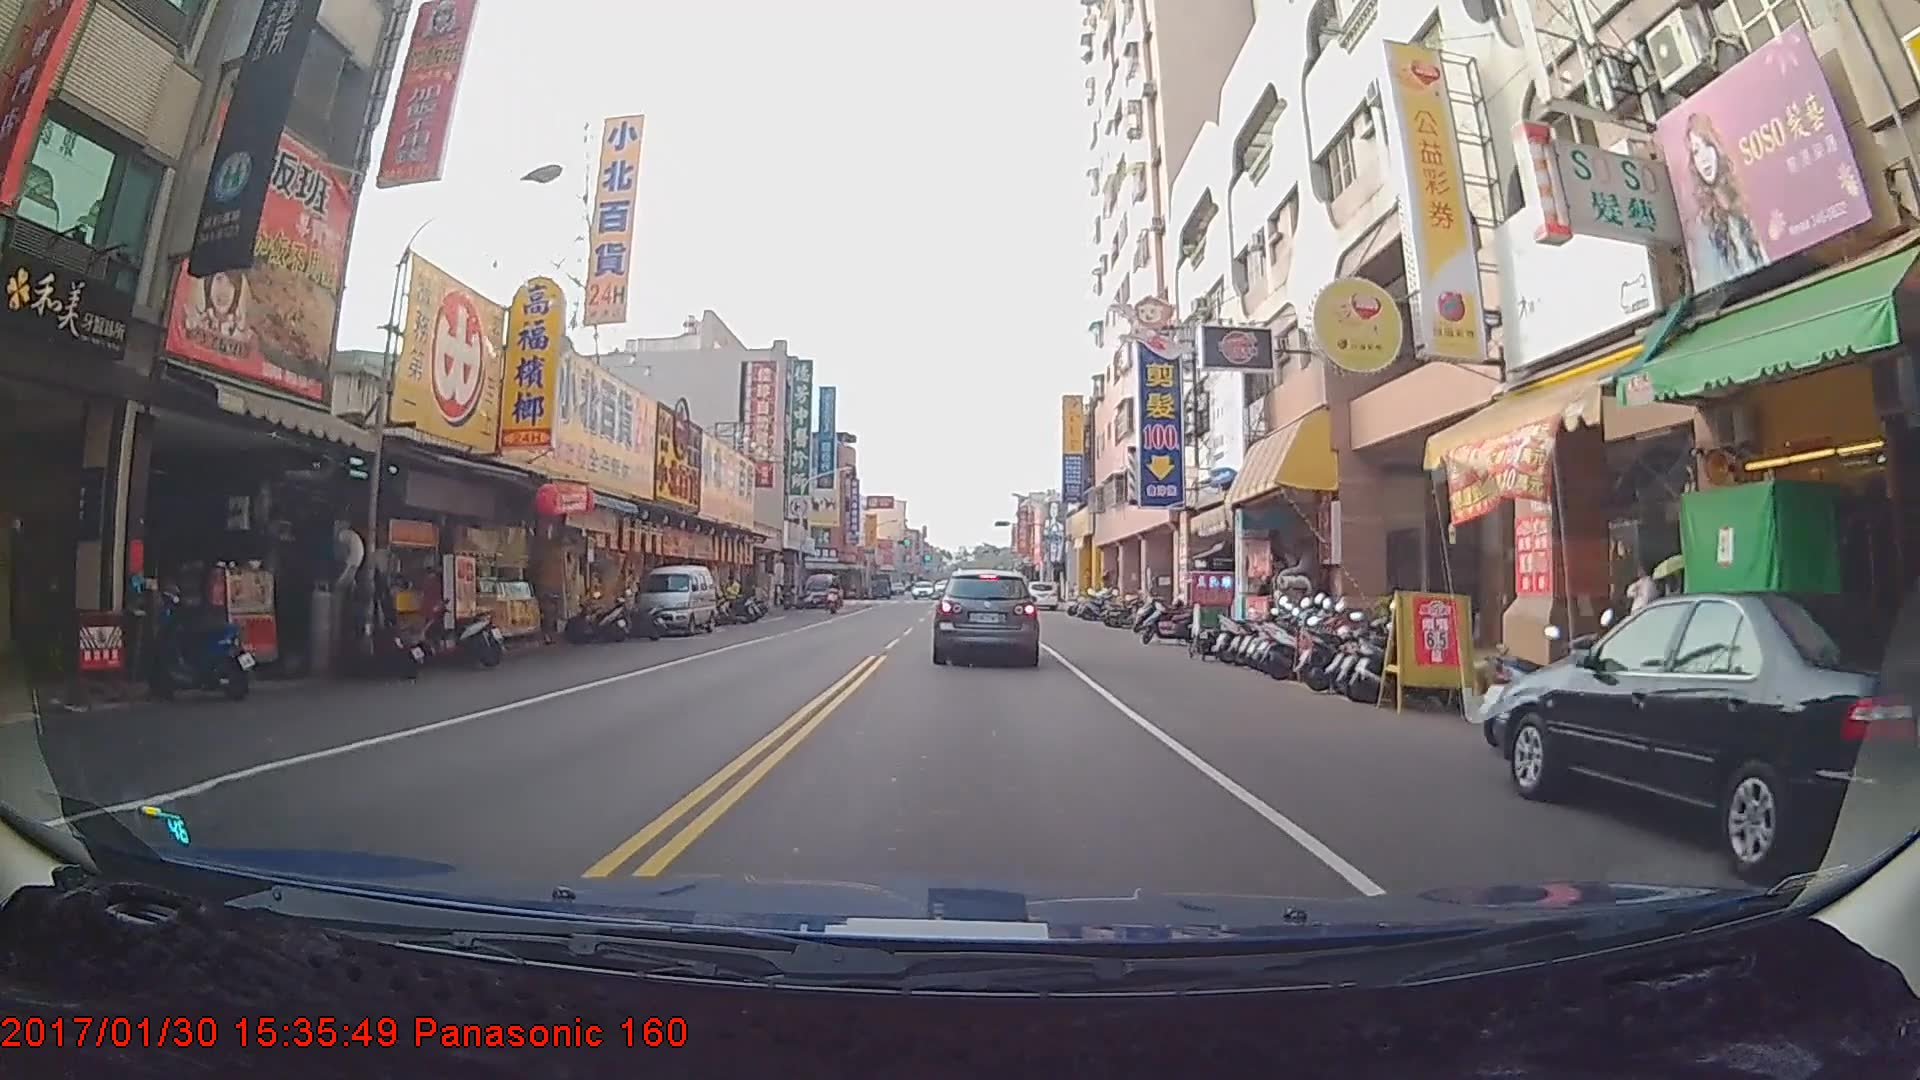pedestrian: (720, 571, 741, 624)
rider: (821, 571, 845, 615)
vehicle: (1496, 589, 1920, 883), (933, 567, 1040, 666), (631, 565, 716, 637), (803, 572, 839, 608), (1025, 581, 1058, 611)
